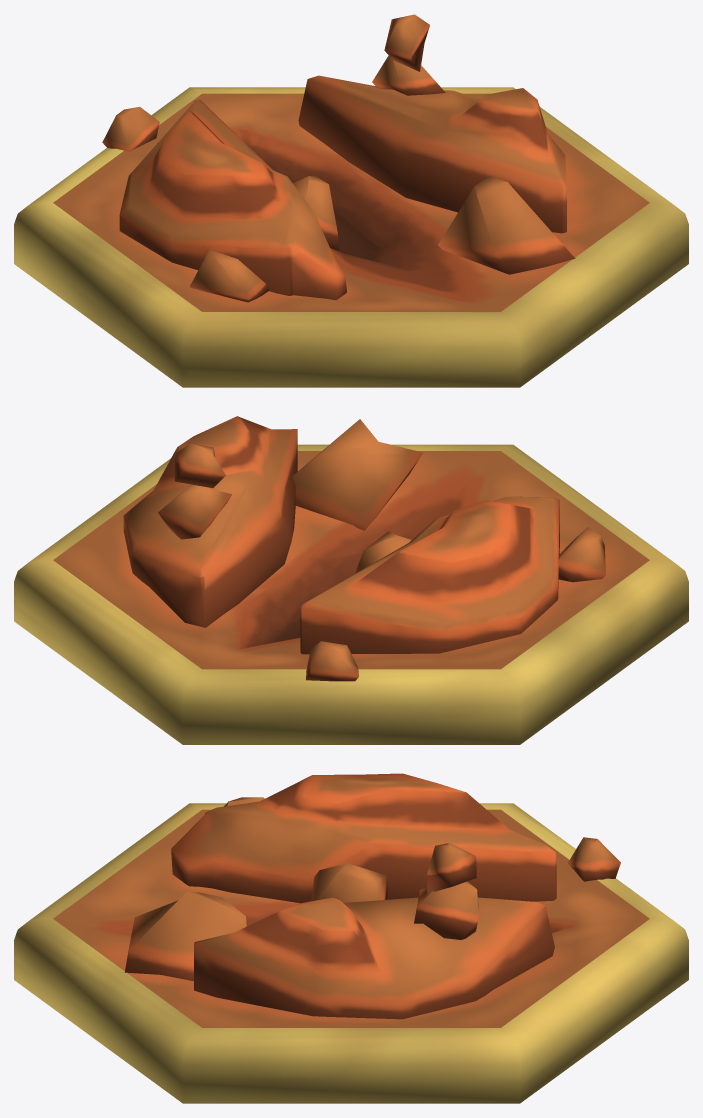
The model's file is Resource_Brick.gltf.
The picture shows the model from 3 angles, top to bottom: view 1: azimuth 30°, elevation 25°; view 2: azimuth 150°, elevation 25°; view 3: azimuth 270°, elevation 25°; orthographic projection.
Visible parts, largest first — view 1: Brick; view 2: Brick; view 3: Brick.
Boxes of the visible parts, x1,y1,x2,y2 form: Brick: (14, 14, 688, 387); Brick: (14, 416, 688, 744); Brick: (14, 773, 688, 1103).
Bounding box in the file's own units: 1.73 × 0.61 × 2.
Materials: 1 (1 with a texture image).
